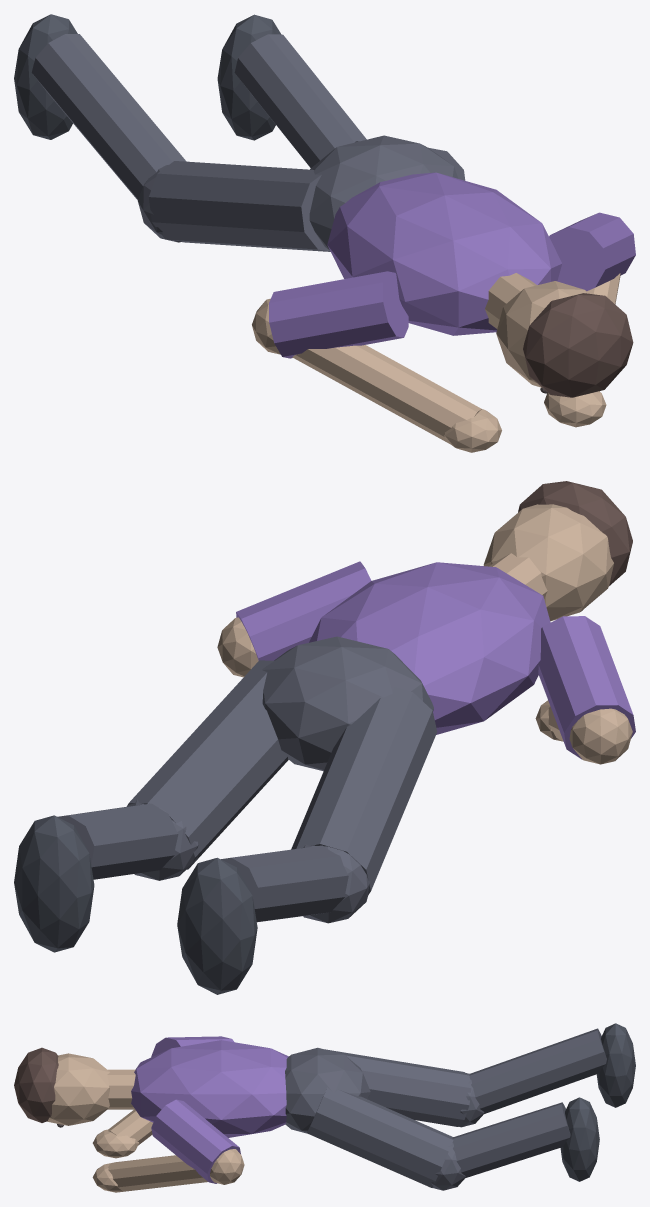
The picture shows the model from 3 angles, top to bottom: view 1: azimuth 30°, elevation 25°; view 2: azimuth 150°, elevation 25°; view 3: azimuth 270°, elevation 25°; orthographic projection. The views are drawn at different scales.
Parts seen in each view (by area): view 1: world; view 2: world; view 3: world.
Boxes of the visible parts, x1=… form: world: x1=14, y1=14, x2=635, y2=452; world: x1=14, y1=481, x2=635, y2=994; world: x1=14, y1=1023, x2=635, y2=1192.
Bounding box in the file's own units: 0.93 × 0.4362 × 2.
